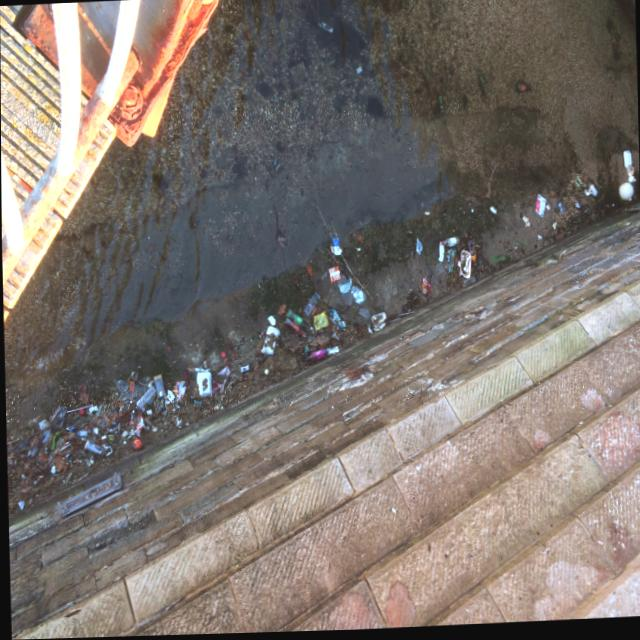Can-Metal: (81, 437, 104, 462), (218, 352, 225, 359), (124, 414, 130, 420), (115, 411, 121, 417)
Paper: (533, 193, 546, 226), (520, 216, 530, 231), (487, 206, 496, 218)
Plastic: (257, 326, 280, 359), (132, 385, 156, 412), (192, 368, 211, 400), (211, 366, 230, 397), (283, 307, 306, 332), (455, 250, 471, 283), (148, 372, 165, 402), (324, 306, 342, 334), (301, 347, 327, 366), (301, 292, 320, 318), (366, 312, 385, 335), (309, 311, 327, 335), (282, 318, 303, 338), (465, 240, 477, 271), (349, 285, 365, 307), (335, 275, 351, 296), (64, 403, 92, 415), (327, 236, 342, 258), (443, 250, 455, 276), (325, 266, 340, 286), (438, 237, 459, 251), (417, 278, 431, 299), (48, 429, 59, 451), (35, 417, 49, 431), (356, 308, 368, 321), (413, 238, 421, 257), (571, 177, 581, 192), (265, 314, 275, 328), (586, 187, 596, 201), (237, 364, 249, 375), (86, 403, 97, 415), (323, 348, 338, 356), (14, 499, 24, 511), (572, 202, 580, 214), (556, 203, 562, 218), (48, 461, 54, 475), (544, 205, 550, 214), (139, 406, 143, 413)
